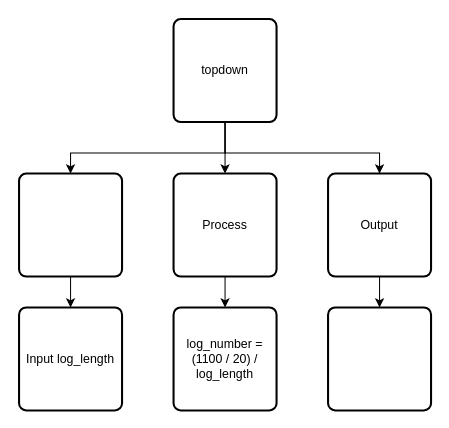
The diagram is 449 pixels wide and 428 high, and some of its shapes have lost their labels. Here are the shapes that lost their labels. From the top down, the box of each, then its label:
(18, 172, 123, 277): Input
(327, 306, 432, 411): Output log_number
